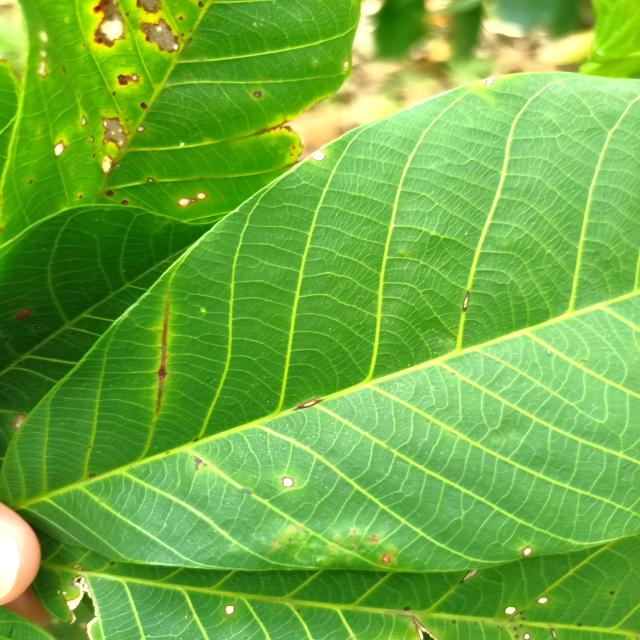Colletotrichum: (310, 150, 326, 161), (176, 197, 191, 208), (282, 477, 294, 488), (225, 605, 236, 615), (522, 545, 531, 557), (195, 193, 209, 200), (538, 596, 548, 604), (253, 91, 262, 98), (106, 191, 114, 197), (403, 606, 411, 611), (121, 200, 129, 205), (89, 473, 96, 478), (147, 178, 155, 182), (609, 591, 615, 596), (577, 623, 582, 627)
Corynespora: (150, 299, 175, 416)
Leaf-Blight: (66, 575, 98, 640), (13, 414, 28, 429)
